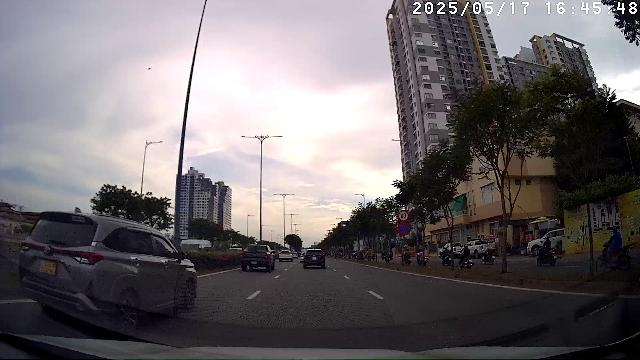127-toc-do-toi-da-60: (397, 210, 409, 222)
130-cam-dung-va-do-xe: (397, 223, 410, 235)
